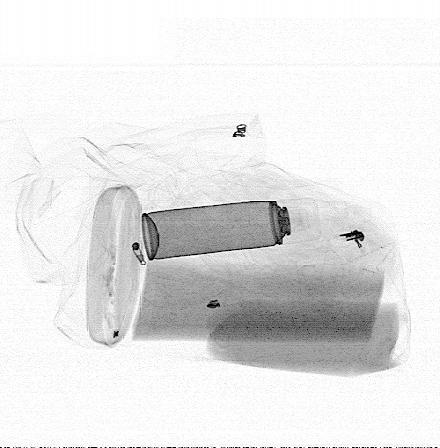Sprayer: (140, 196, 324, 262)
